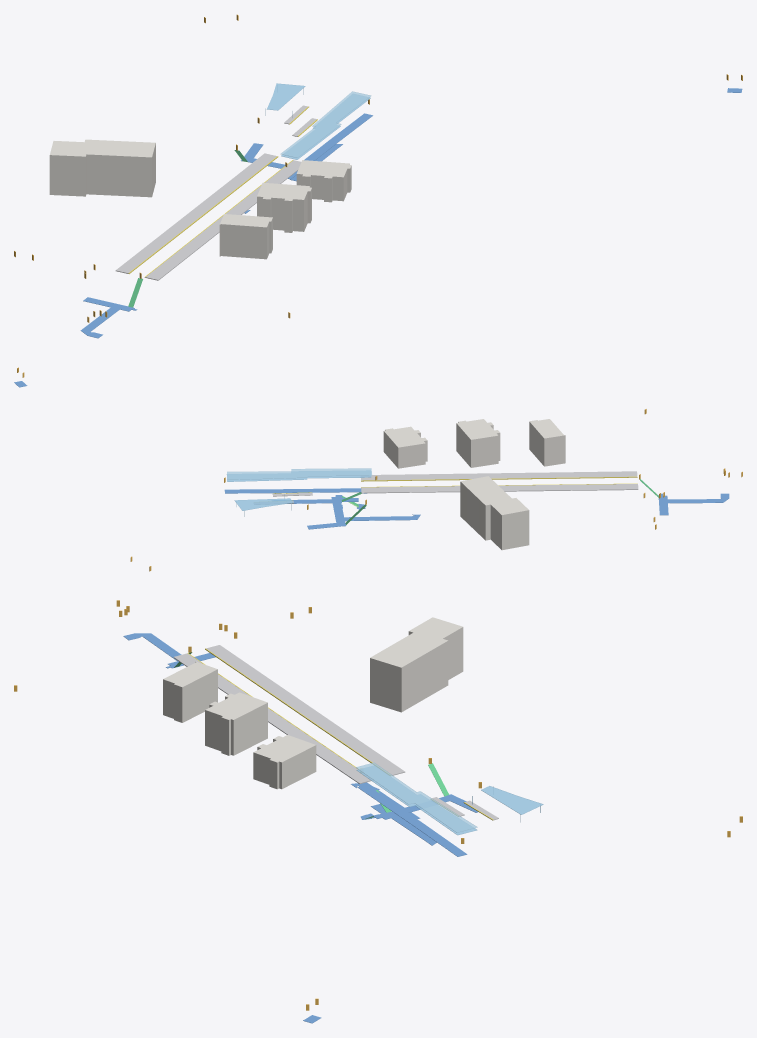
Rendered from 8508052-bern-tiefenau.glb.
The picture shows the model from 3 angles, top to bottom: view 1: azimuth 30°, elevation 25°; view 2: azimuth 150°, elevation 25°; view 3: azimuth 270°, elevation 25°; orthographic projection. The views are drawn at different scales.
Visible parts, largest first — view 1: building_part@x, platform_body@0, canopy@0, roof@0, passage@-2, passage@-1, boarding_edge@0; view 2: building_part@x, platform_body@0, canopy@0, roof@0, passage@-2, boarding_edge@0, passage@-1, passage@-3; view 3: building_part@x, platform_body@0, canopy@0, roof@0, passage@-2, passage@-1, boarding_edge@0.
Boxes of the visible parts, bbox=[...] form: building_part@x: bbox=[49, 139, 351, 259]; platform_body@0: bbox=[115, 105, 316, 280]; canopy@0: bbox=[265, 83, 370, 159]; roof@0: bbox=[280, 91, 371, 157]; passage@-2: bbox=[80, 143, 342, 338]; passage@-1: bbox=[288, 88, 742, 179]; boarding_edge@0: bbox=[128, 106, 317, 277]; building_part@x: bbox=[383, 419, 565, 550]; platform_body@0: bbox=[254, 471, 638, 504]; canopy@0: bbox=[226, 471, 371, 516]; roof@0: bbox=[227, 468, 372, 479]; passage@-2: bbox=[274, 493, 729, 529]; boarding_edge@0: bbox=[273, 476, 637, 500]; passage@-1: bbox=[14, 381, 366, 493]; passage@-3: bbox=[344, 504, 420, 521]; building_part@x: bbox=[163, 617, 463, 789]; platform_body@0: bbox=[173, 645, 498, 820]; canopy@0: bbox=[356, 766, 543, 835]; roof@0: bbox=[356, 762, 477, 832]; passage@-2: bbox=[123, 633, 477, 845]; passage@-1: bbox=[303, 784, 467, 1023]; boarding_edge@0: bbox=[187, 648, 493, 820].
Bounding box in the file's own units: 340 × 31.12 × 258.
